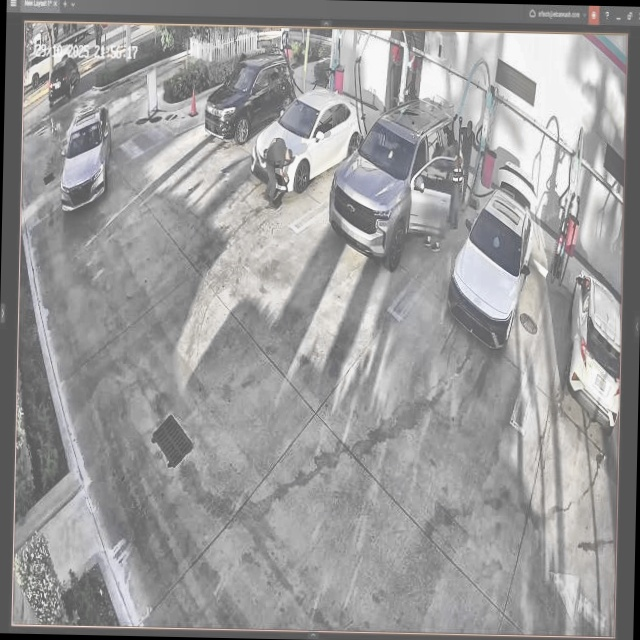Car: (325, 97, 456, 274), (443, 161, 537, 352), (251, 83, 368, 194)
